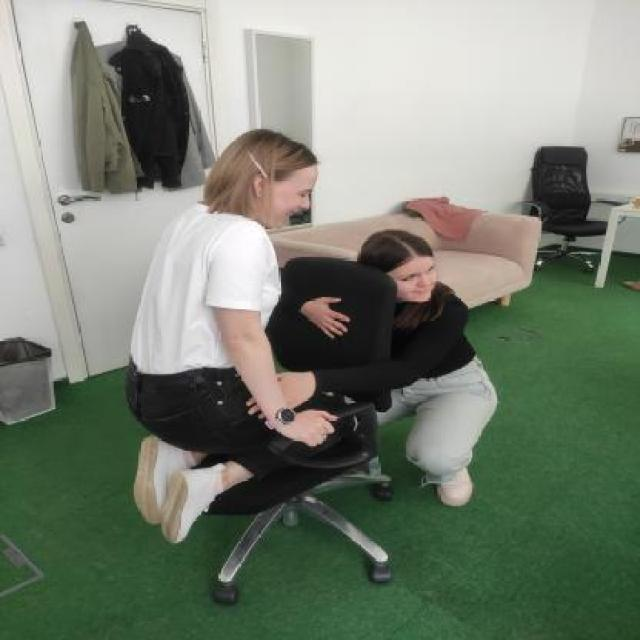chair: (149, 252, 408, 608)
